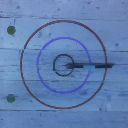Axe Tip: (65, 64, 78, 66)
